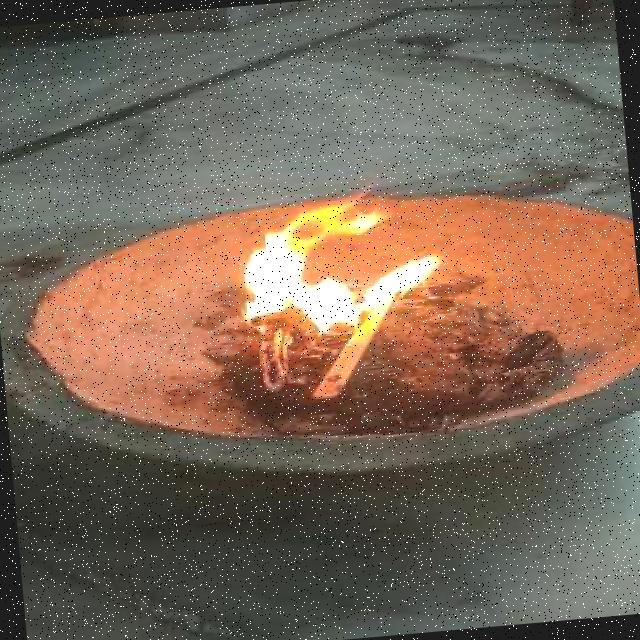Fire: (205, 176, 448, 349)
